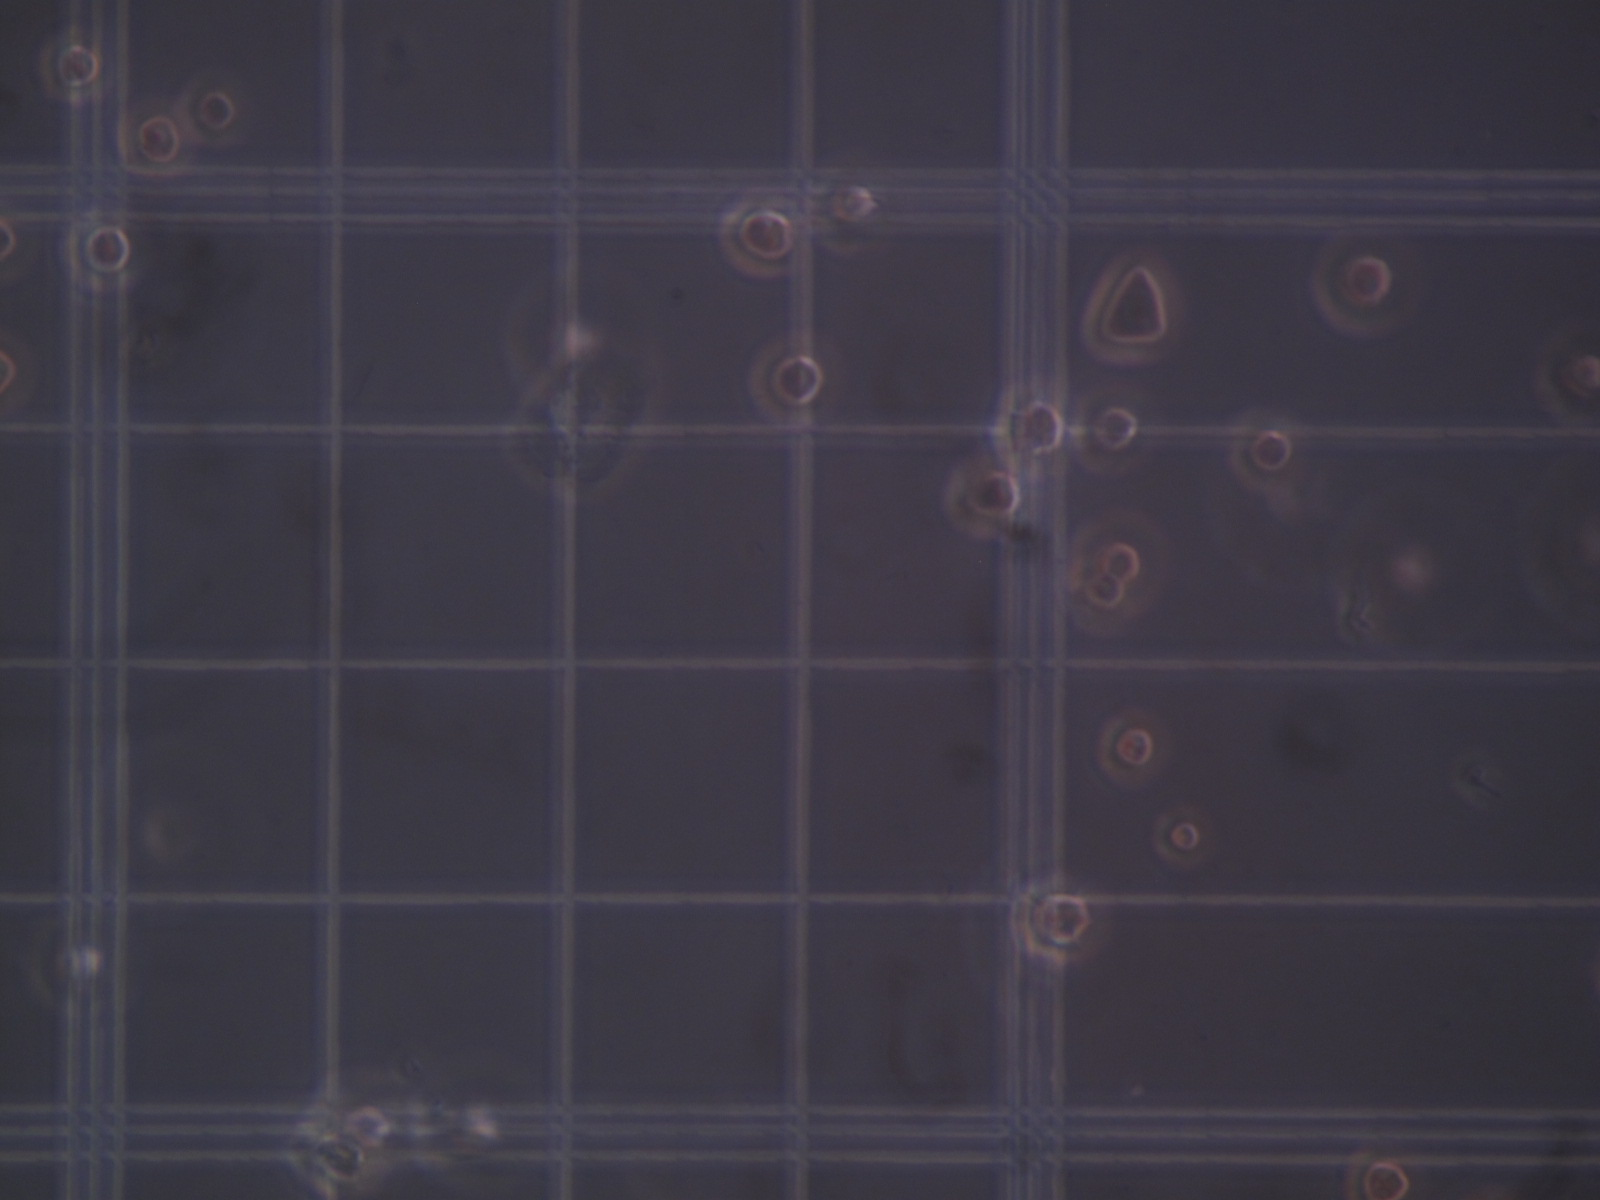hemo: (307, 1065, 426, 1179), (1065, 509, 1167, 632), (1081, 251, 1182, 366), (1310, 234, 1398, 337), (747, 332, 842, 425), (1013, 876, 1099, 964), (1071, 383, 1151, 476), (990, 379, 1070, 474), (944, 458, 1031, 539), (1534, 330, 1600, 429), (717, 200, 797, 279), (1228, 408, 1301, 493), (117, 100, 194, 178), (63, 216, 137, 291), (1095, 708, 1167, 787), (813, 182, 883, 255), (178, 74, 246, 147), (42, 37, 103, 105), (1151, 805, 1212, 868), (1070, 574, 1135, 632), (1344, 1148, 1414, 1200), (1, 213, 16, 266), (1, 347, 16, 396)
